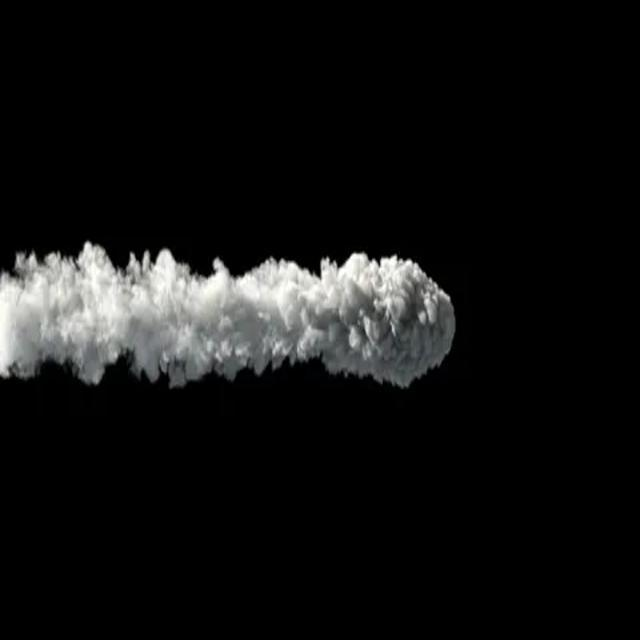Smoke: (2, 221, 458, 407)
